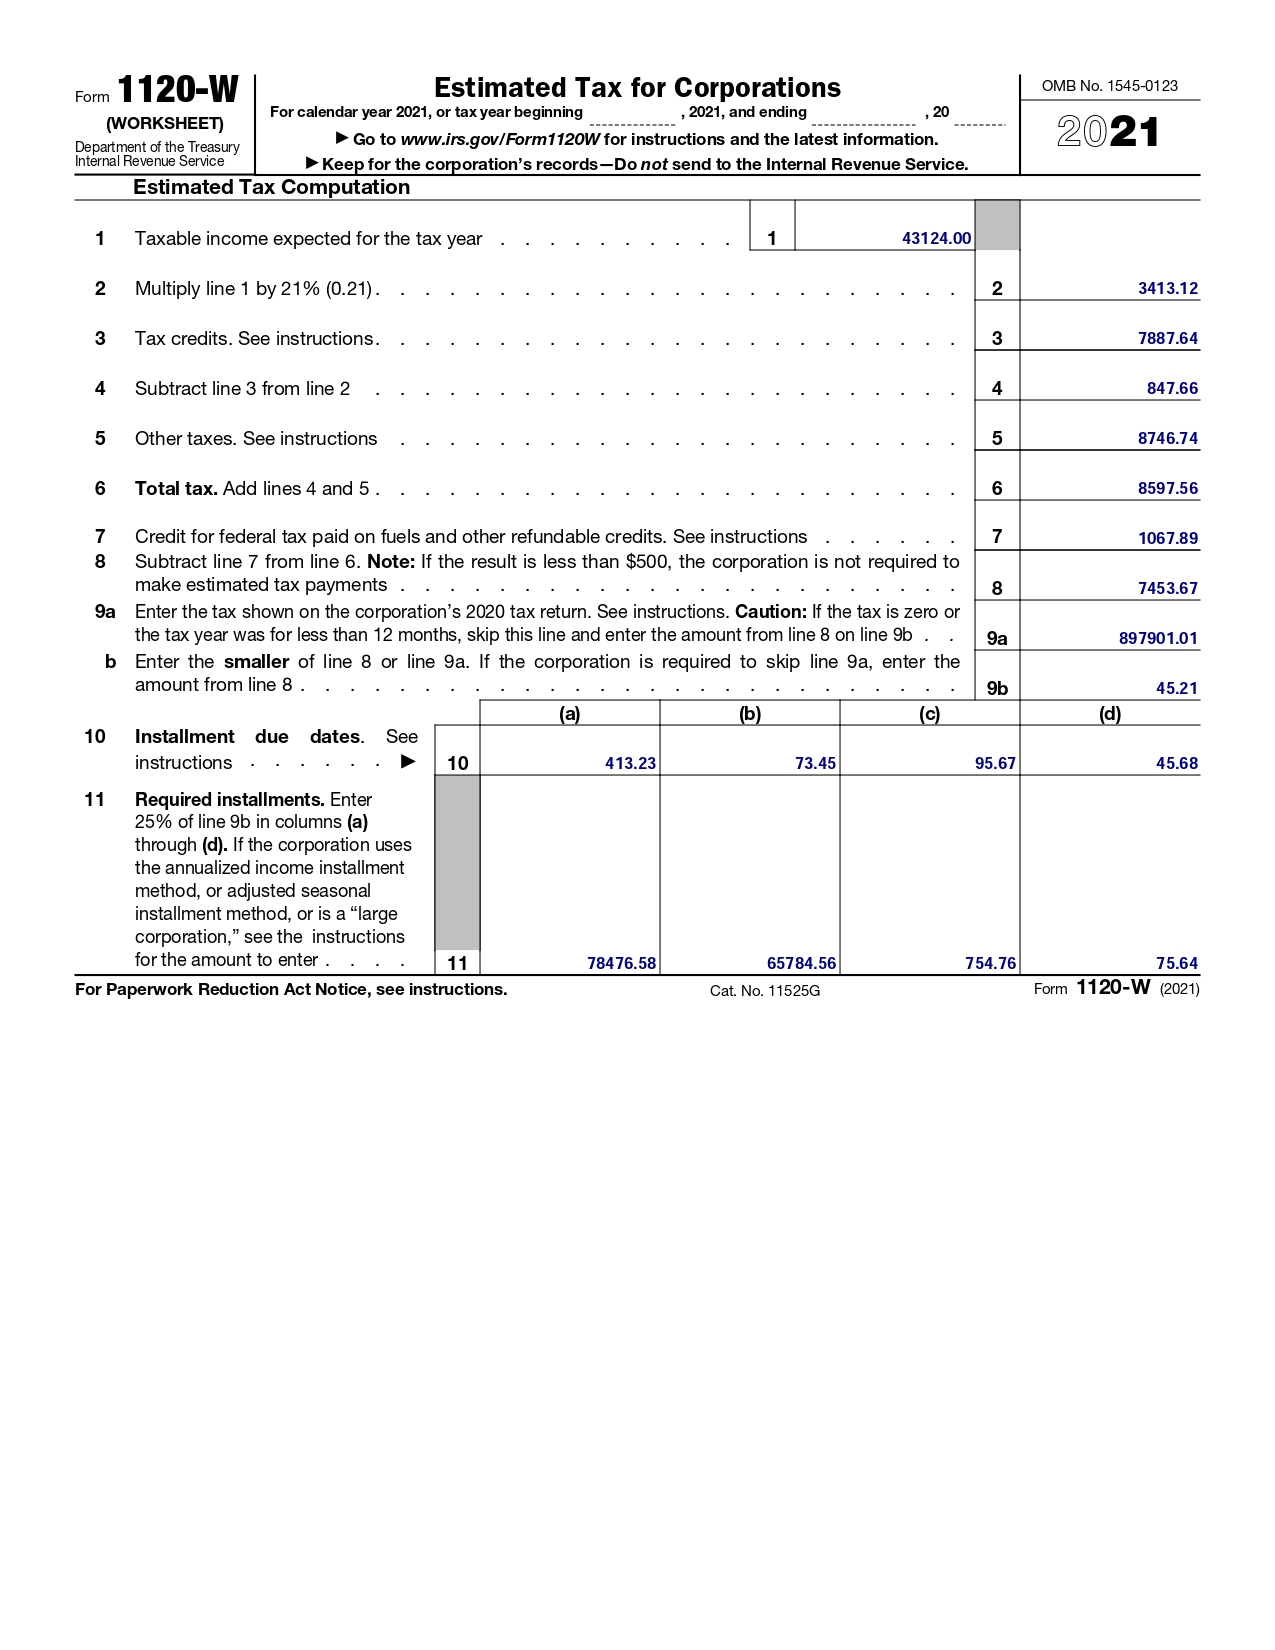table: (64, 174, 1216, 980)
